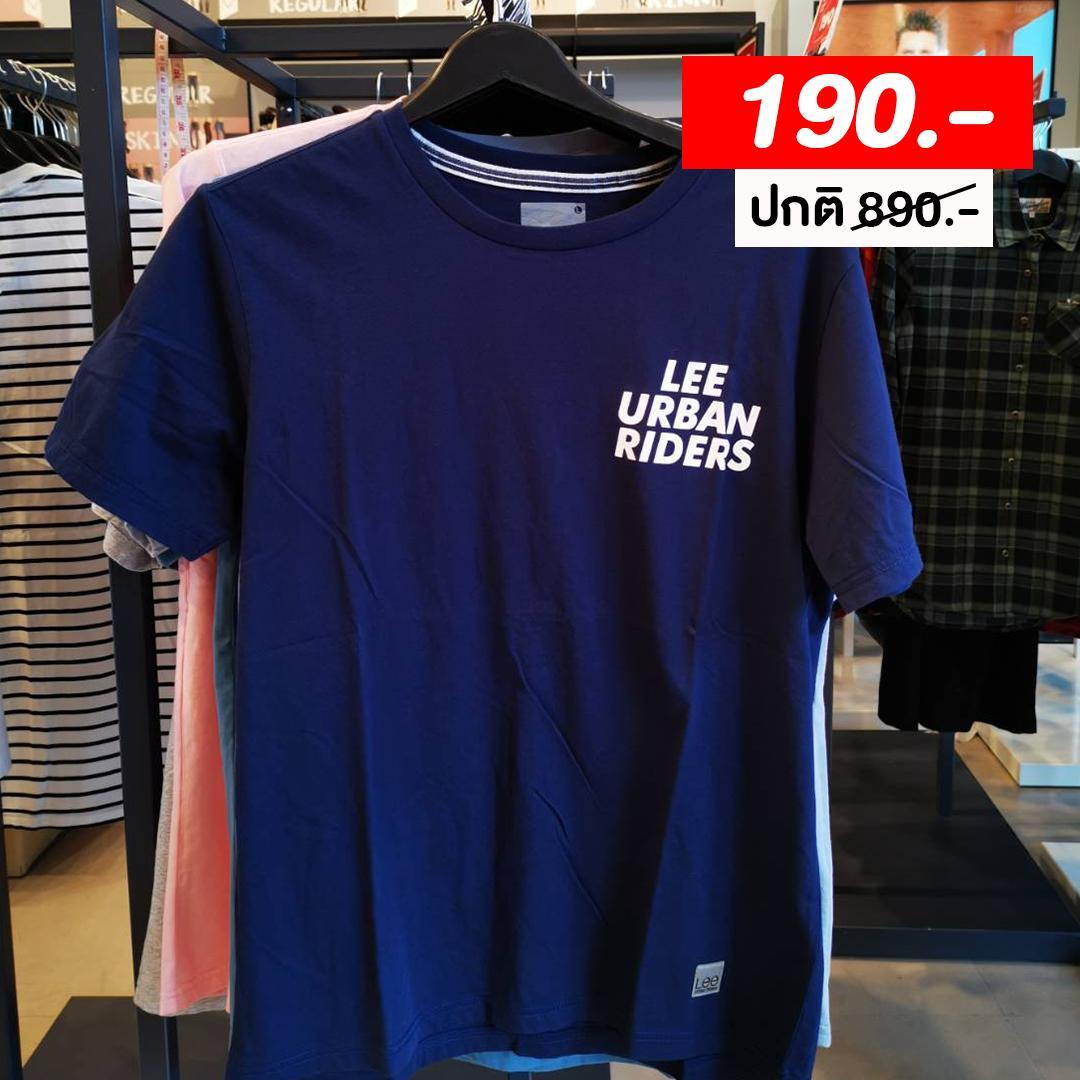Tshirt: (54, 130, 925, 1054)
